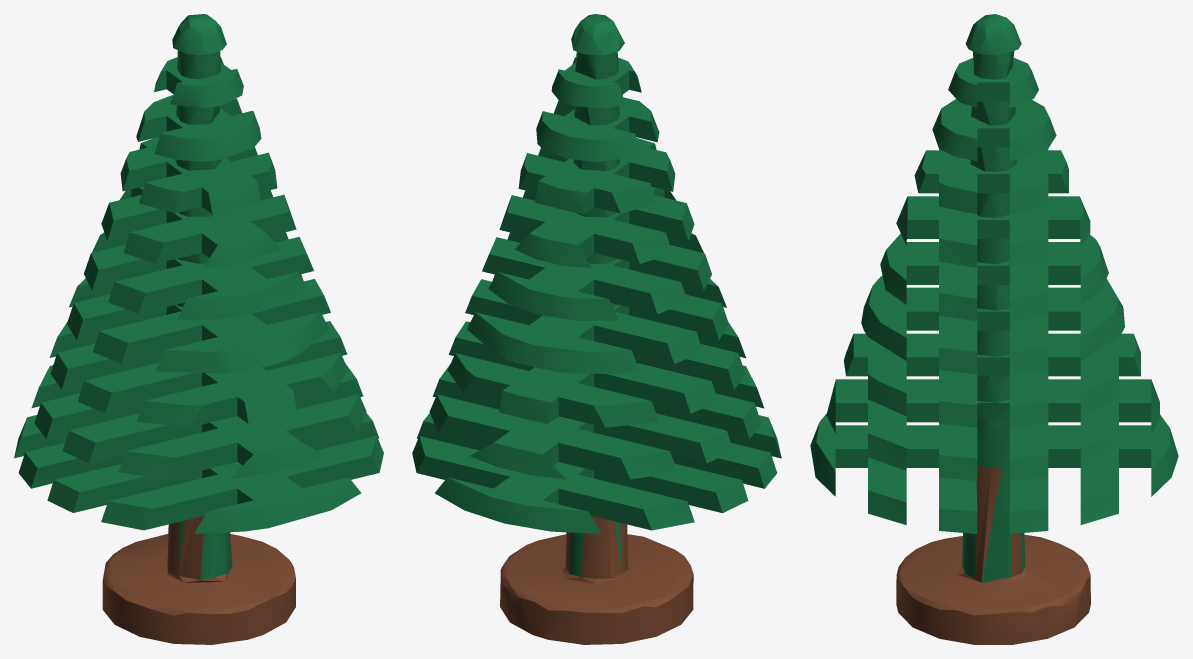
Rendered from spruce.glb.
The picture shows the model from 3 angles, left to right: view 1: azimuth 30°, elevation 25°; view 2: azimuth 150°, elevation 25°; view 3: azimuth 270°, elevation 25°; orthographic projection.
Visible parts, largest first — view 1: spruce; view 2: spruce; view 3: spruce.
Part boxes in pixels (x1,y1,x2,y2): spruce: (14,14,383,644); spruce: (412,14,781,644); spruce: (810,14,1178,644).
Bounding box in the file's own units: 0.2165 × 0.3798 × 0.2163.
